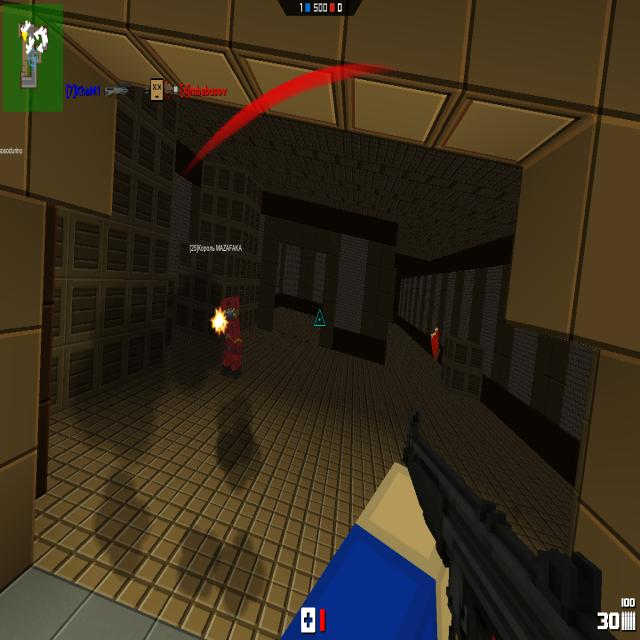enemy: (220, 294, 242, 381)
